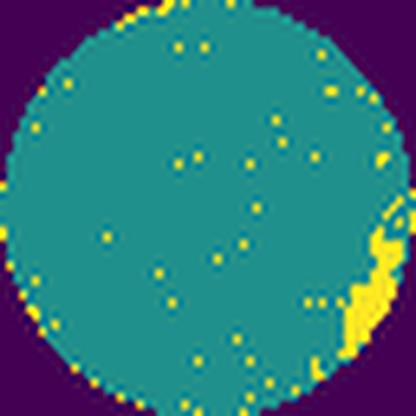Edge-Loc: (334, 188, 416, 372)
